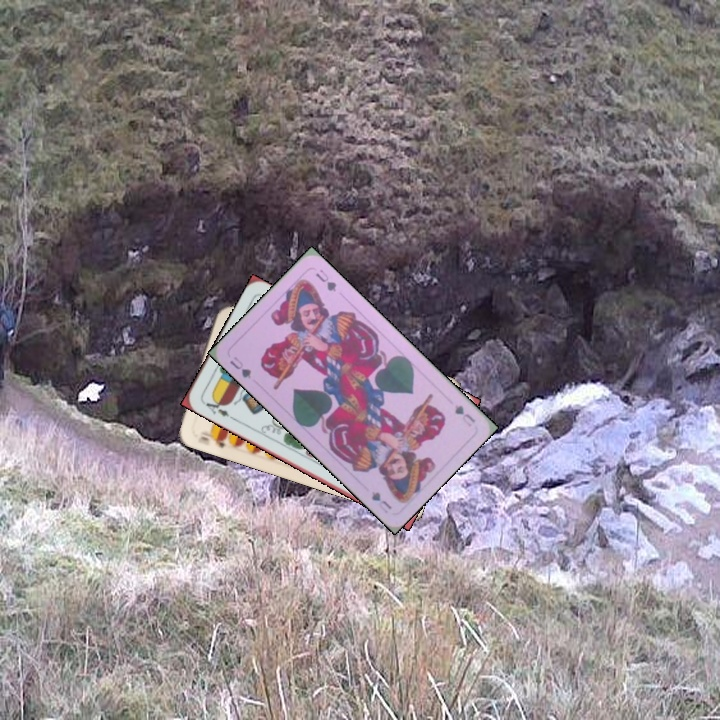E10: (196, 427, 229, 451)
EA: (199, 393, 236, 422)
GU: (225, 352, 254, 382), (451, 401, 478, 429)
